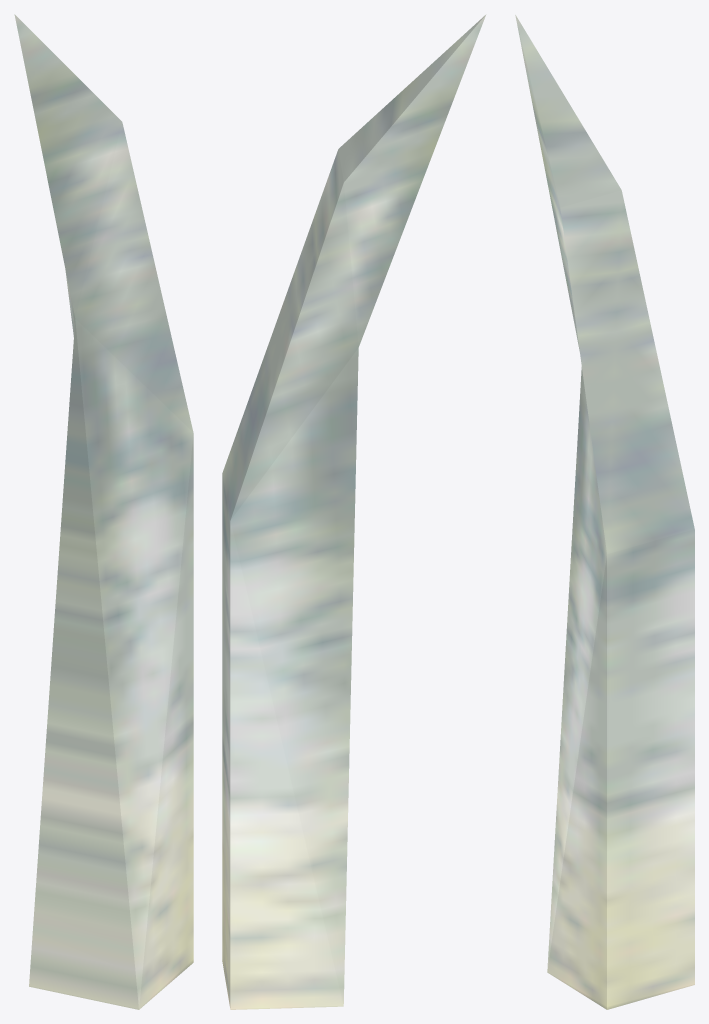
File: rib24.glb
The picture shows the model from 3 angles, left to right: view 1: azimuth 30°, elevation 25°; view 2: azimuth 150°, elevation 25°; view 3: azimuth 270°, elevation 25°; orthographic projection. The views are drawn at different scales.
Parts seen in each view (by area): view 1: rib24; view 2: rib24; view 3: rib24.
Part boxes in pixels (x1,y1,x2,y2): rib24: (14,14,193,1009); rib24: (222,14,486,1009); rib24: (515,15,694,1009).
Size of the model in its own units: 554 by 2379 by 431.
1 material, 1 textured.
